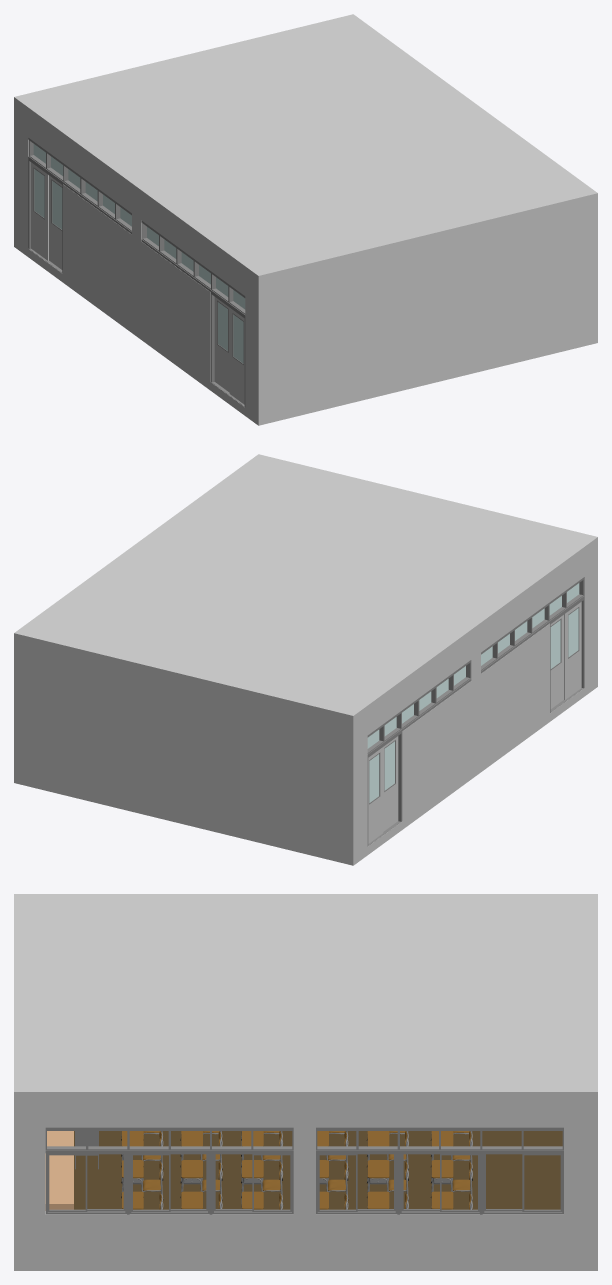
Rendered from classRoom_light.glb.
The picture shows the model from 3 angles, top to bottom: view 1: azimuth 30°, elevation 25°; view 2: azimuth 150°, elevation 25°; view 3: azimuth 270°, elevation 25°; orthographic projection. The views are drawn at different scales.
Visible parts, largest first — view 1: オブジェクト_255, オブジェクト_269, オブジェクト_270, オブジェクト_266, オブジェクト_260, オブジェクト_259, オブジェクト_265; view 2: オブジェクト_255, オブジェクト_270, オブジェクト_269, オブジェクト_260, オブジェクト_266, オブジェクト_265, オブジェクト_259; view 3: オブジェクト_255, オブジェクト_152, オブジェクト_234, オブジェクト_232, オブジェクト_136.010, オブジェクト_136.009, オブジェクト_136.011, オブジェクト_120.
Part boxes in pixels (<box>): オブジェクト_255: <box>14,14,597,425</box>; オブジェクト_269: <box>141,221,245,406</box>; オブジェクト_270: <box>28,138,131,273</box>; オブジェクト_266: <box>31,162,48,260</box>; オブジェクト_260: <box>229,308,244,404</box>; オブジェクト_259: <box>214,297,229,392</box>; オブジェクト_265: <box>49,175,62,269</box>; オブジェクト_255: <box>14,454,597,865</box>; オブジェクト_270: <box>367,660,471,846</box>; オブジェクト_269: <box>481,577,584,712</box>; オブジェクト_260: <box>564,602,581,699</box>; オブジェクト_266: <box>368,747,383,843</box>; オブジェクト_265: <box>383,736,398,831</box>; オブジェクト_259: <box>550,615,563,708</box>; オブジェクト_255: <box>14,894,597,1270</box>; オブジェクト_152: <box>74,1131,562,1209</box>; オブジェクト_234: <box>45,1127,293,1214</box>; オブジェクト_232: <box>316,1127,563,1214</box>; オブジェクト_136.010: <box>121,1160,472,1209</box>; オブジェクト_136.009: <box>121,1131,472,1183</box>; オブジェクト_136.011: <box>122,1191,472,1209</box>; オブジェクト_120: <box>45,1131,73,1210</box>.
Size of the model in its own units: 8.31 by 3.51 by 10.37.
